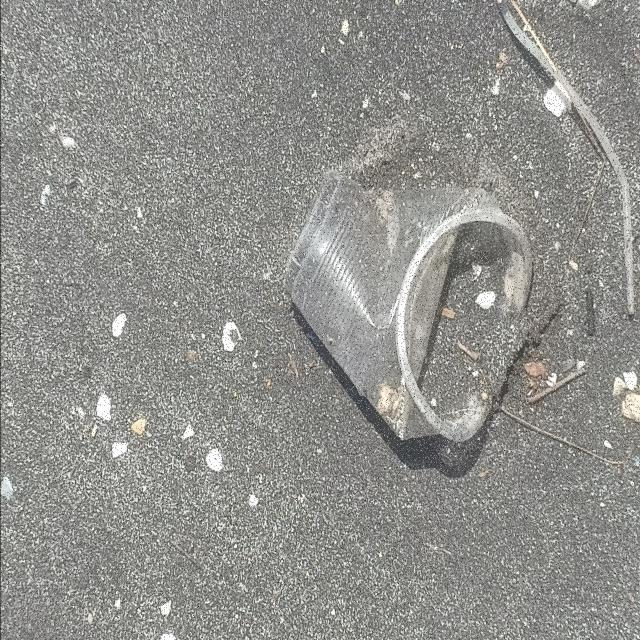plastic_waste: (281, 169, 535, 447)
